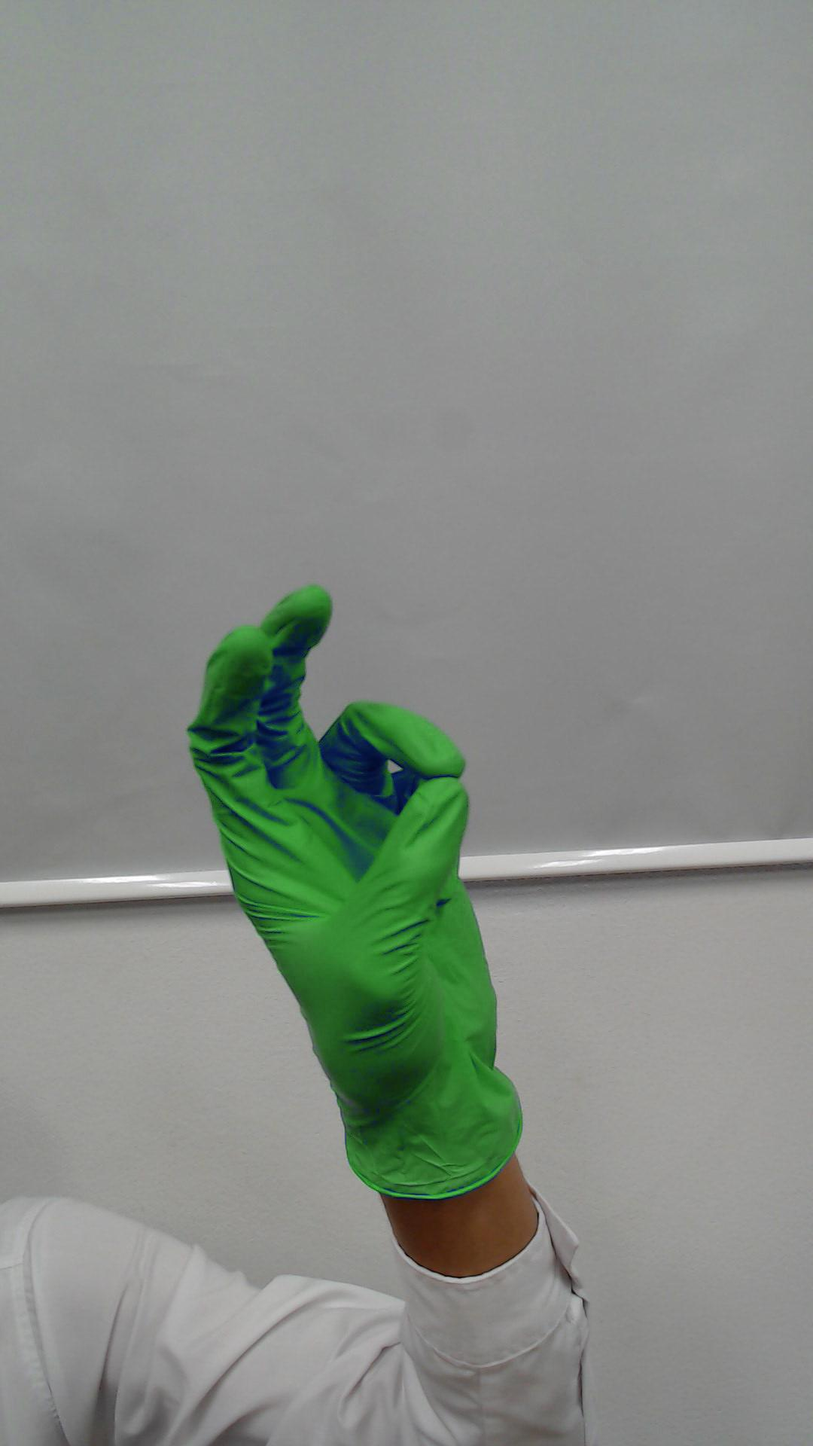gloves: (182, 569, 513, 1051)
